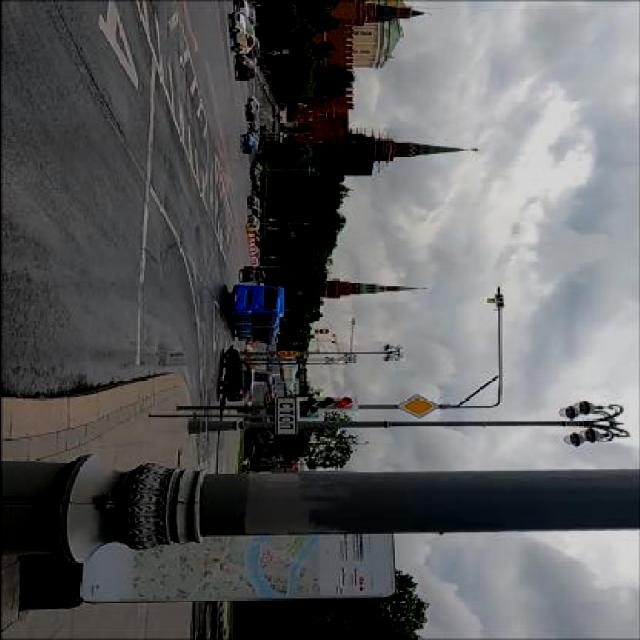bus: (230, 285, 284, 342)
